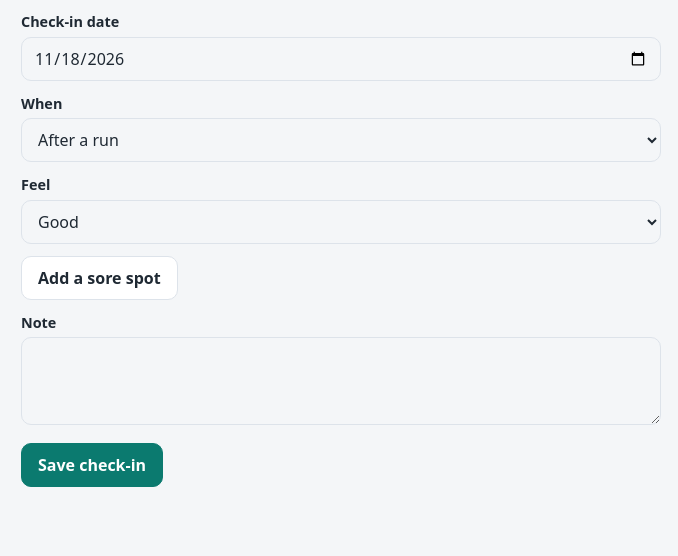
Test case: CheckInForm: bad input and errors › rejects a missing date
The width and height of the screenshot is (678, 556).
Clear the date field labelled "Check-in date" at (341, 59), box [21,37,661,81]
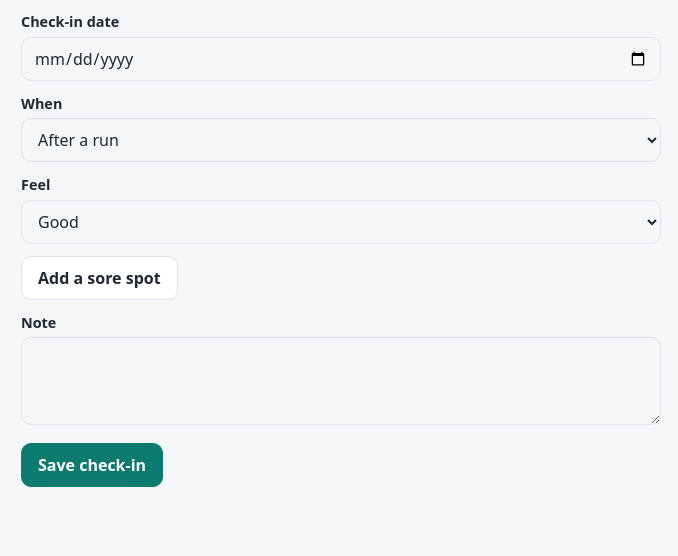
Click the button "Save check-in" at (92, 465), box [21,443,163,487]
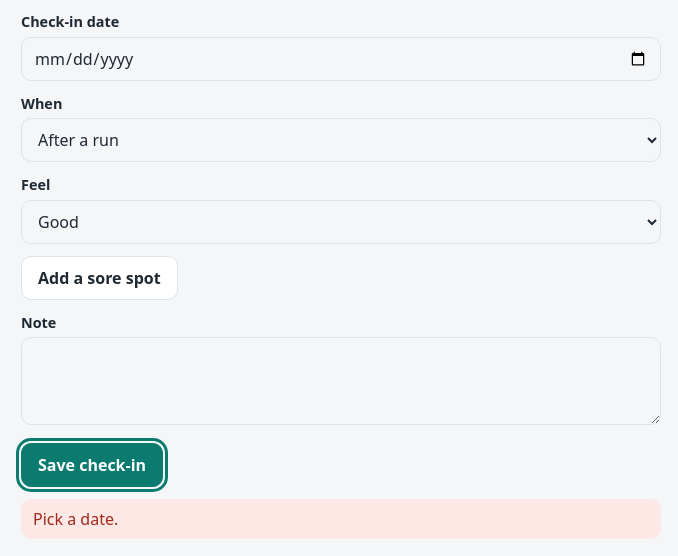
Expected: the text "Pick a date." is shown, [21,499,661,539]
